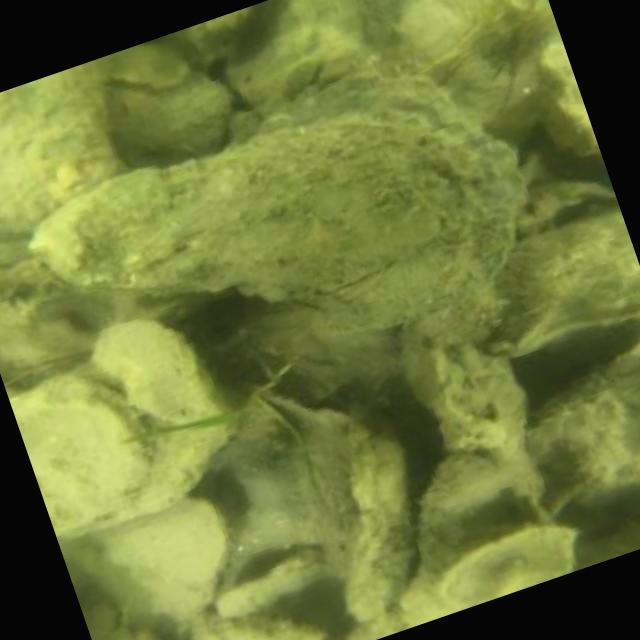Oyster-Closed: (26, 116, 473, 304), (287, 66, 527, 329), (475, 205, 640, 356), (305, 415, 416, 622), (6, 370, 153, 526), (401, 448, 529, 623), (62, 504, 228, 635), (0, 59, 124, 231), (97, 315, 217, 418), (107, 80, 228, 166), (194, 613, 324, 640)
